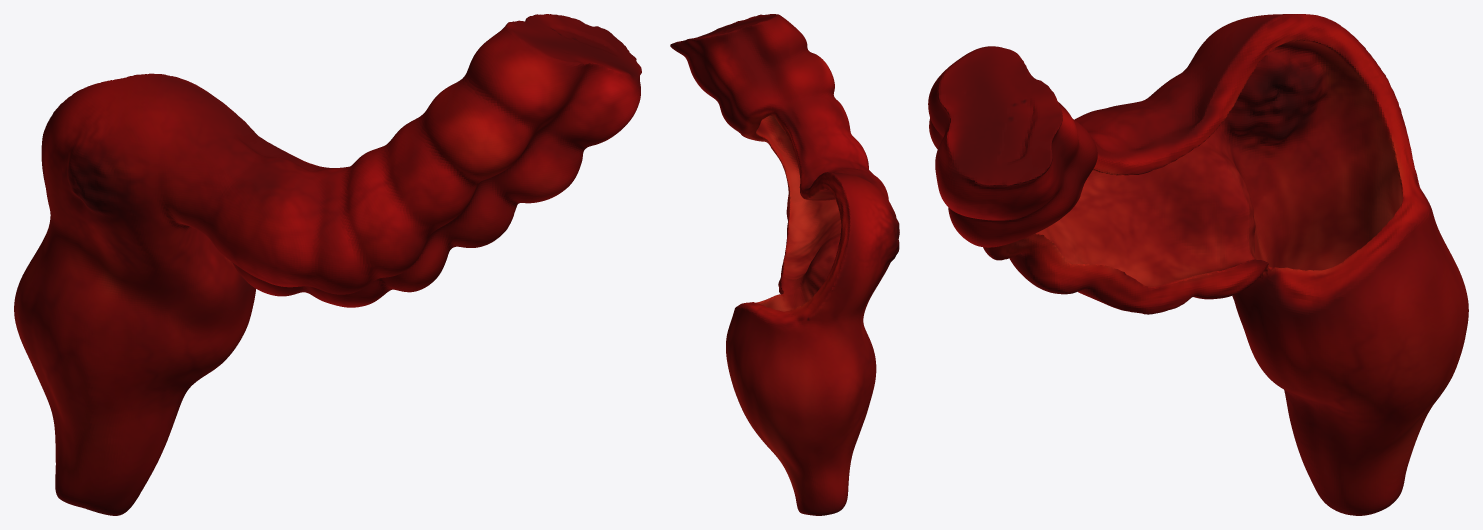
The model's file is stage-4-m-v1.glb.
3 views of the same model, side by side, from view 1: azimuth 30°, elevation 25°; view 2: azimuth 150°, elevation 25°; view 3: azimuth 270°, elevation 25° (orthographic). The views are drawn at different scales.
Parts seen in each view (by area): view 1: BOOLEAN COLON HEALTHY; view 2: BOOLEAN COLON HEALTHY; view 3: BOOLEAN COLON HEALTHY.
Boxes of the visible parts, left/top/right/bottom form: BOOLEAN COLON HEALTHY: left=14, top=14, right=641, bottom=515; BOOLEAN COLON HEALTHY: left=670, top=14, right=899, bottom=515; BOOLEAN COLON HEALTHY: left=928, top=14, right=1468, bottom=515.
Bounding box in the file's own units: 0.36 × 0.4251 × 0.3558.
Materials: 1 (1 with a texture image).
